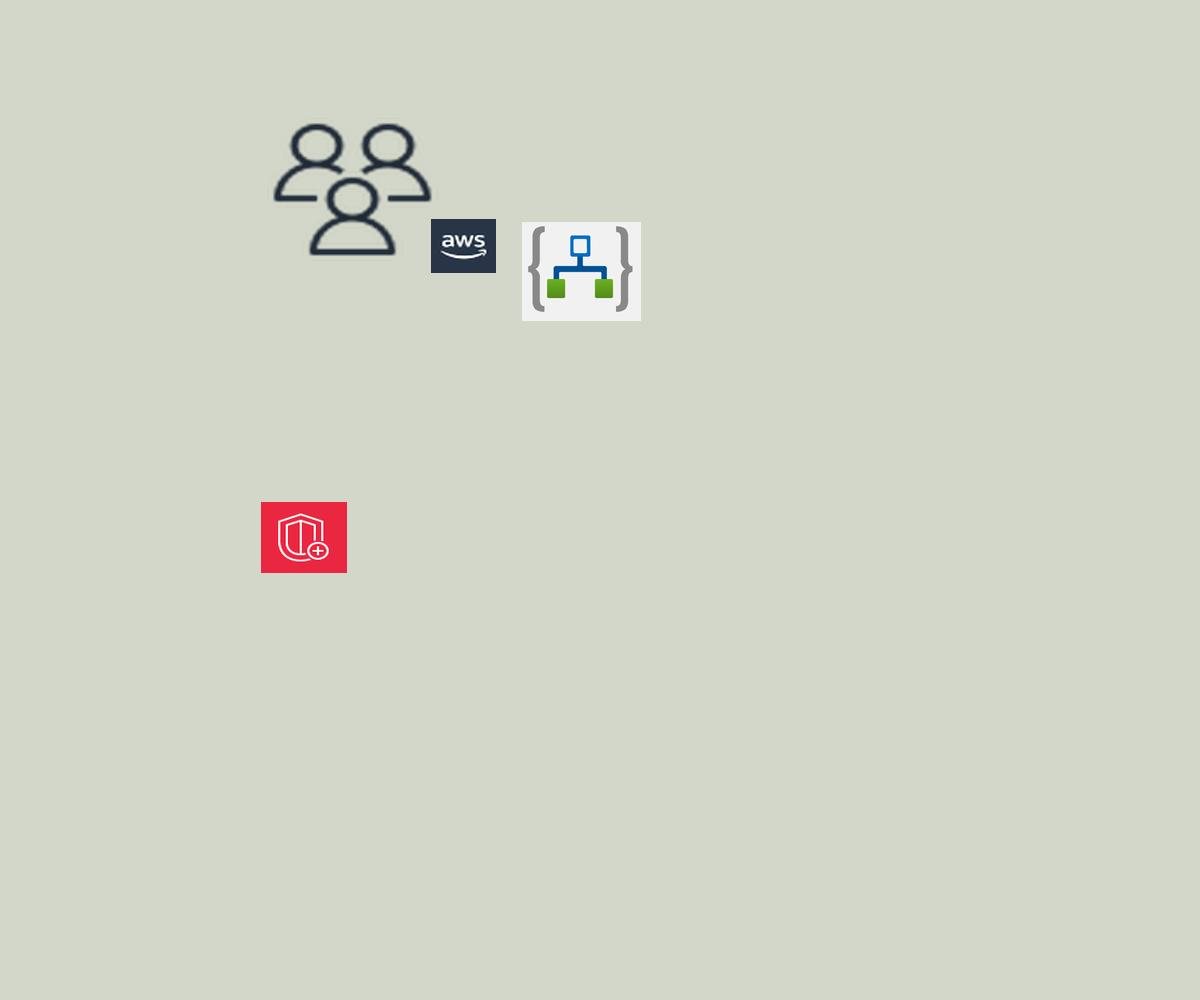AWS-Cloud-logo: (431, 219, 496, 273)
AWS-Res_Users: (267, 118, 438, 261)
AWS-Shield: (261, 502, 347, 573)
Azure_integration-204-Logic-Apps: (522, 222, 641, 321)
